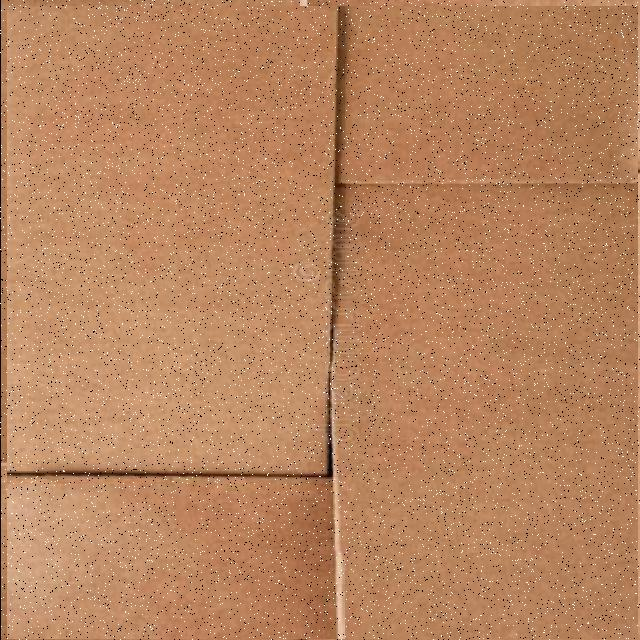normal: (6, 6, 637, 639)
